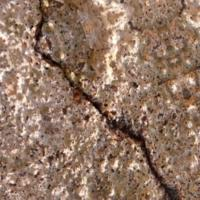crack: (20, 1, 186, 199)
